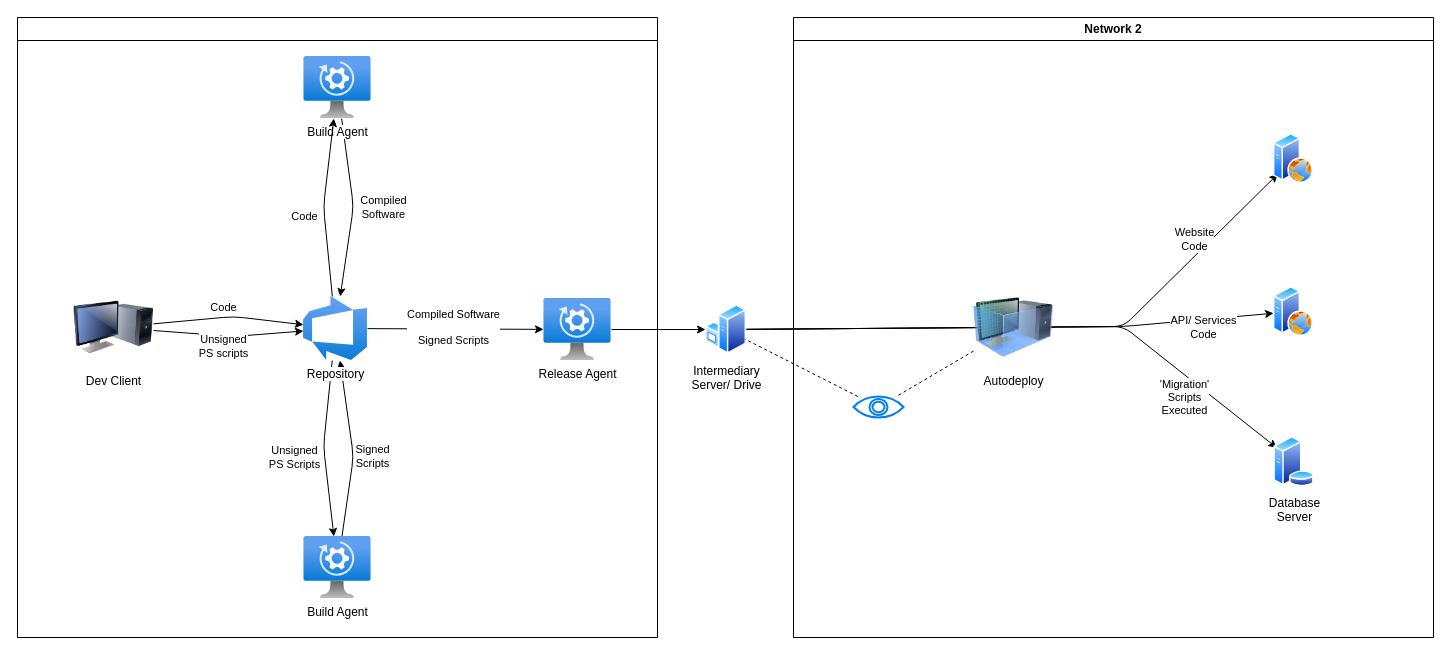
This 1451x655 diagram has some shape labels left out. Each missing label, with the centre of its shape:
IIS/ APIServer: (x=1293, y=311)
IIS/ Webserver: (x=1293, y=158)
Network 1: (x=337, y=327)
Periodic Checks for Changes: (x=878, y=406)
